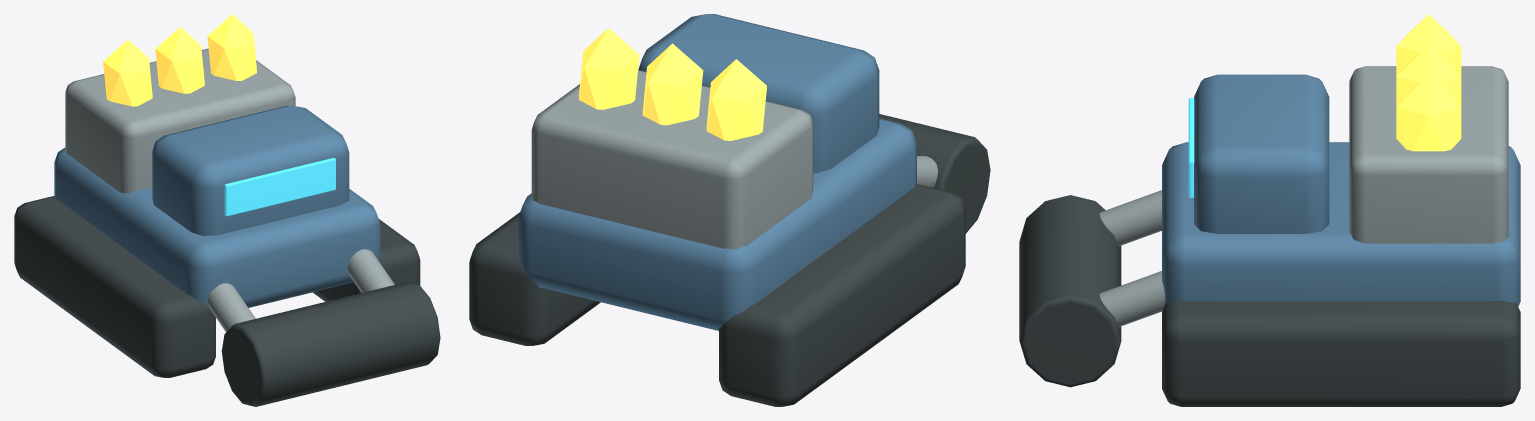
Rendered from harvester.glb.
The picture shows the model from 3 angles, left to right: view 1: azimuth 30°, elevation 25°; view 2: azimuth 150°, elevation 25°; view 3: azimuth 270°, elevation 25°; orthographic projection. The views are drawn at different scales.
Parts seen in each view (by area): view 1: Rover chassis, Crawler, Cutter drum, Pilot module, Cargo bin, Cab windshield, Cargo crystal, Cargo crystal.001, Cargo crystal.002, Crawler.001, Mining arm, Mining arm.001; view 2: Cargo bin, Rover chassis, Crawler, Pilot module, Crawler.001, Cutter drum, Cargo crystal.001, Cargo crystal, Cargo crystal.002, Mining arm; view 3: Crawler.001, Rover chassis, Cargo bin, Pilot module, Cutter drum, Cargo crystal.002, Mining arm.001, Mining arm, Cargo crystal, Cargo crystal.001, Cab windshield.
Boxes of the visible parts, x1,y1,x2,y2 form: Rover chassis: [54, 147, 380, 307]; Crawler: [14, 196, 215, 377]; Cutter drum: [221, 282, 440, 406]; Pilot module: [152, 105, 349, 235]; Cargo bin: [65, 48, 295, 193]; Cab windshield: [224, 158, 335, 216]; Cargo crystal: [103, 39, 152, 106]; Cargo crystal.001: [155, 27, 204, 93]; Cargo crystal.002: [207, 14, 256, 80]; Crawler.001: [313, 219, 420, 301]; Mining arm: [207, 283, 255, 331]; Mining arm.001: [348, 249, 394, 292]; Cargo bin: [531, 70, 813, 249]; Rover chassis: [518, 118, 916, 330]; Crawler: [719, 184, 965, 406]; Pilot module: [638, 14, 879, 173]; Crawler.001: [469, 212, 600, 345]; Cutter drum: [879, 114, 990, 233]; Cargo crystal.001: [642, 43, 703, 125]; Cargo crystal: [706, 59, 766, 140]; Cargo crystal.002: [579, 28, 639, 109]; Mining arm: [917, 156, 937, 187]; Crawler.001: [1162, 300, 1520, 406]; Rover chassis: [1162, 142, 1520, 306]; Cargo bin: [1349, 66, 1508, 243]; Pilot module: [1194, 74, 1329, 233]; Cutter drum: [1019, 195, 1121, 387]; Cargo crystal.002: [1396, 75, 1461, 151]; Mining arm.001: [1099, 271, 1164, 326]; Mining arm: [1099, 190, 1161, 246]; Cargo crystal: [1396, 14, 1461, 76]; Cargo crystal.001: [1396, 44, 1461, 106]; Cab windshield: [1188, 98, 1194, 198].
Size of the model in its own units: 2.31 by 2.03 by 3.15.
